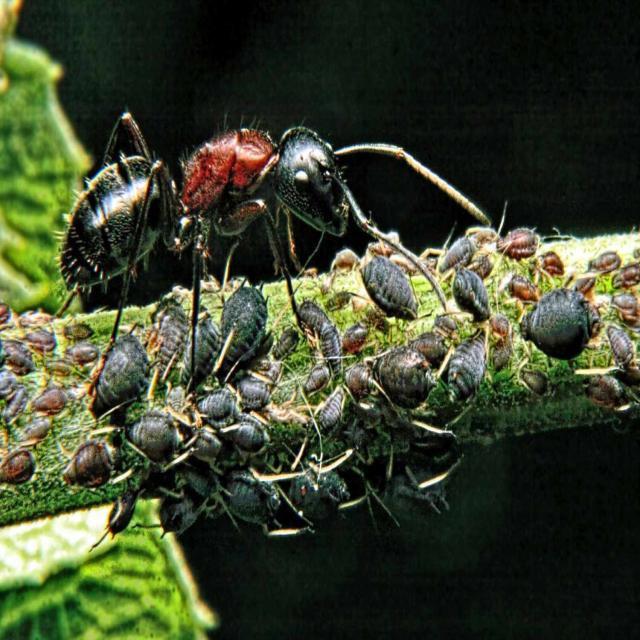Aphid-Grown-: (520, 287, 607, 369), (92, 315, 158, 423), (212, 279, 275, 371), (356, 252, 425, 327), (120, 403, 190, 473), (55, 431, 122, 497), (225, 412, 270, 462), (497, 221, 543, 261), (234, 371, 277, 412), (194, 390, 238, 428), (314, 322, 344, 372)
